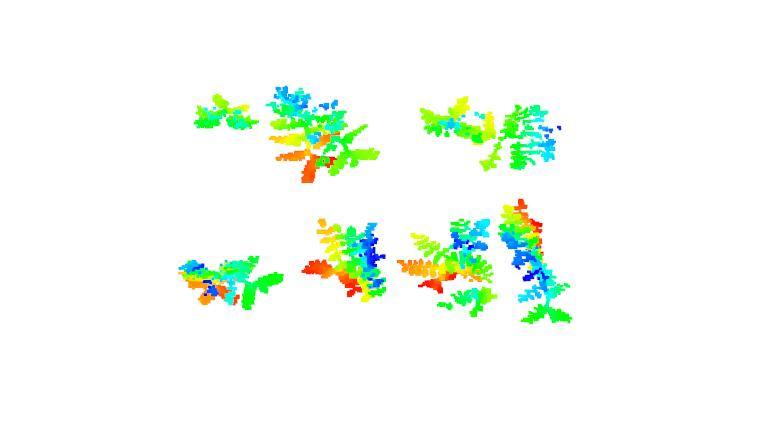chickpea: (394, 214, 500, 320), (268, 84, 380, 182), (499, 197, 574, 326), (301, 213, 391, 301), (181, 250, 282, 315), (479, 104, 559, 173), (418, 98, 493, 148), (194, 92, 260, 135)
